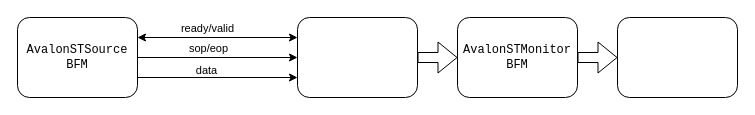
Some shapes in this 755 by 115 pixel diagram are drawn without their labels. Each missing label, with the box of its shape:
AvalonSTSink BFM: (616, 16, 738, 98)
DUT: (296, 16, 418, 98)
